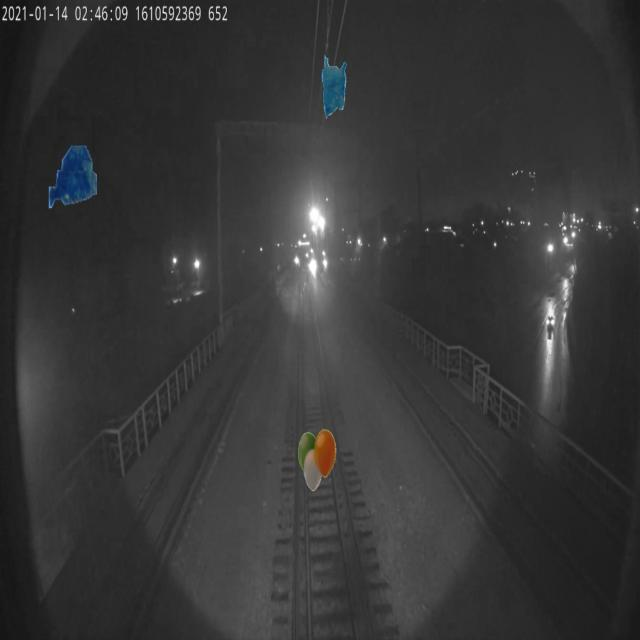balloon: (298, 429, 336, 493)
plastic bag: (48, 144, 100, 208), (322, 54, 348, 119)
